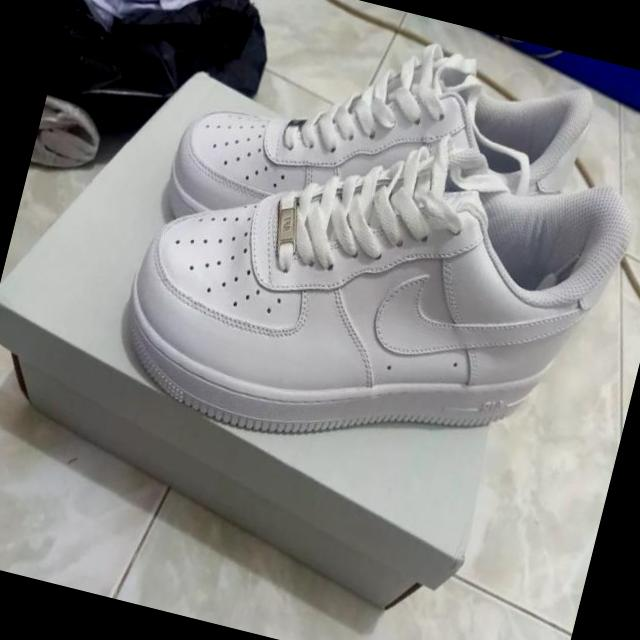nike_original_airforce: (101, 74, 640, 508), (157, 0, 610, 310)
